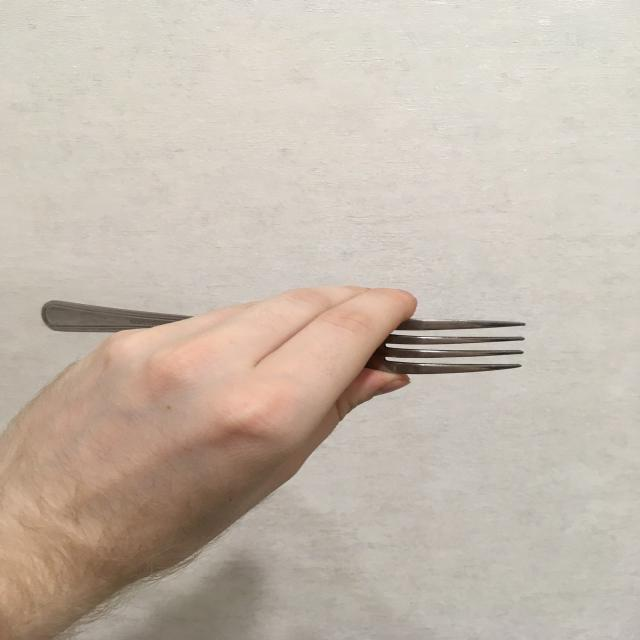fork: (40, 300, 530, 376)
